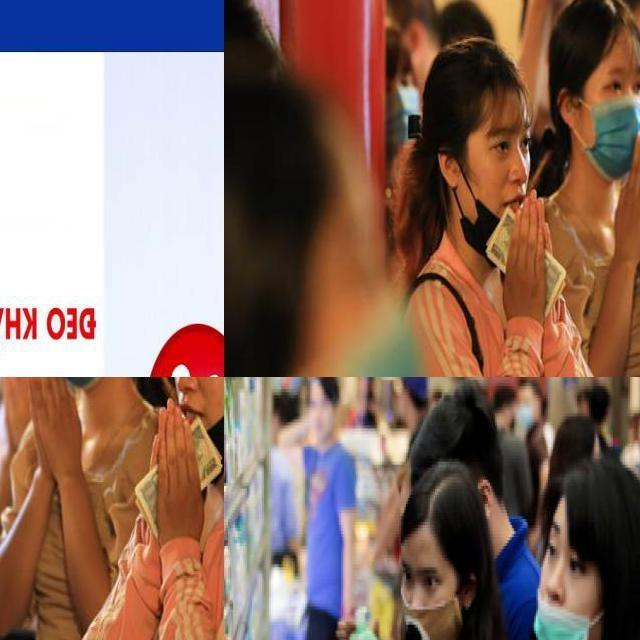hairnet: (437, 122, 558, 272), (497, 514, 622, 640), (151, 375, 224, 498)
mask: (560, 87, 640, 176)
no_apron: (148, 395, 215, 540), (23, 379, 94, 487), (500, 196, 547, 323), (609, 162, 640, 281)
no_gloves: (417, 32, 533, 179), (393, 456, 490, 607), (546, 463, 640, 600), (543, 0, 640, 94)
